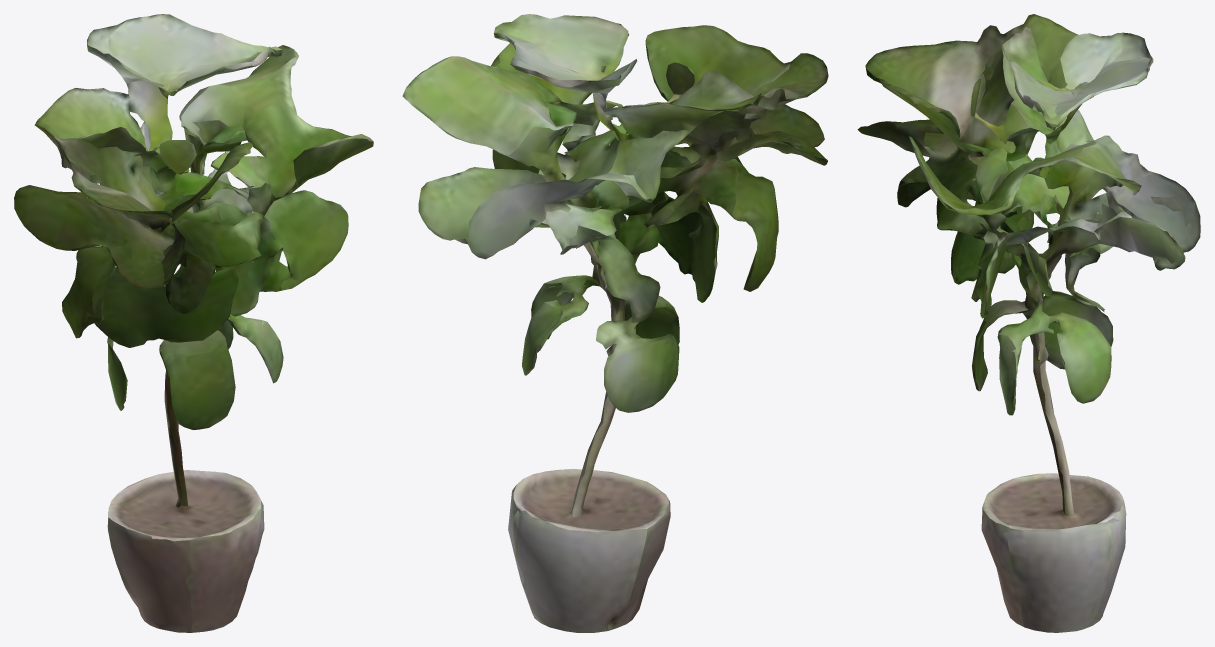
3 renders of one model, left to right at view 1: azimuth 30°, elevation 25°; view 2: azimuth 150°, elevation 25°; view 3: azimuth 270°, elevation 25°, orthographic. The views are drawn at different scales.
Parts seen in each view (by area): view 1: world; view 2: world; view 3: world.
Boxes of the visible parts, bbox=[...] form: world: bbox=[14, 14, 373, 632]; world: bbox=[402, 14, 828, 632]; world: bbox=[857, 14, 1200, 632].
Size of the model in its own units: 0.3551 by 0.5685 by 0.3217.
Materials: 1 (1 with a texture image).
